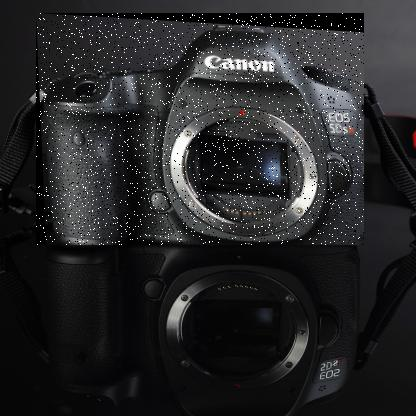Camera: (37, 14, 366, 247)
